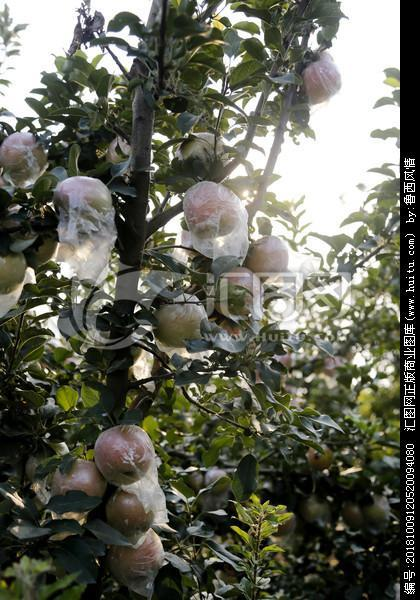apple: (305, 443, 333, 470)
